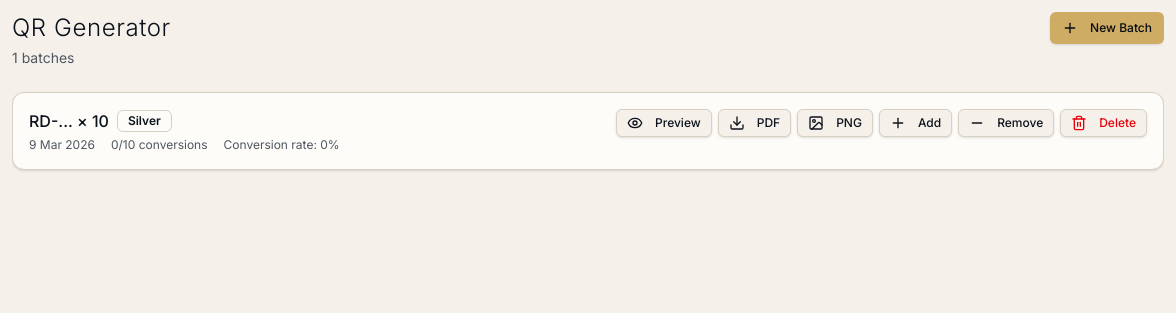
AdminQrGeneratorPage › clicking Add button shows inline form with count input
Click the button "Add": (916, 123) [879, 109, 952, 137]
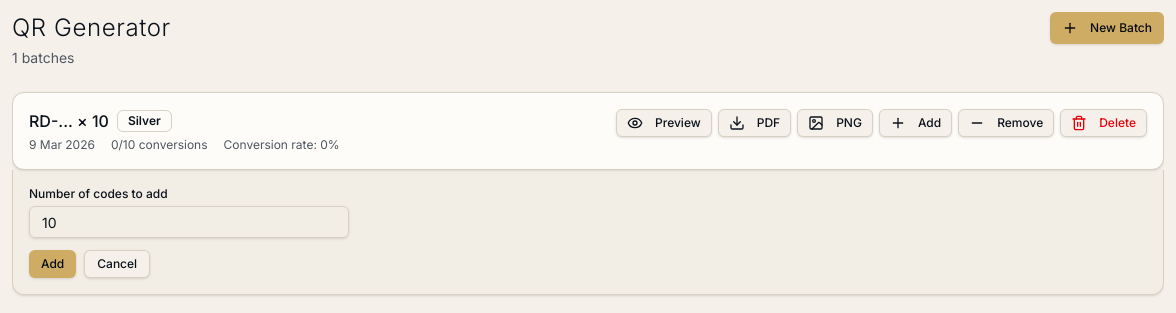
Expected: the text "Number of codes to add" is shown, [29, 186, 168, 201]
